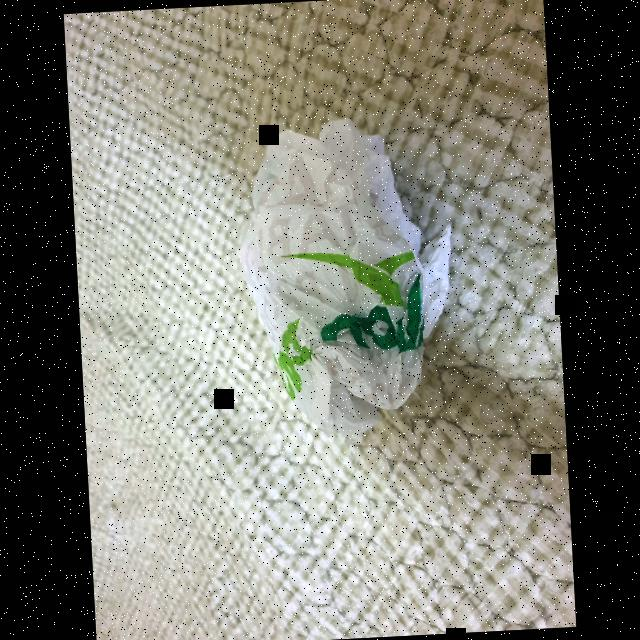plastic_bag: (227, 110, 465, 458)
